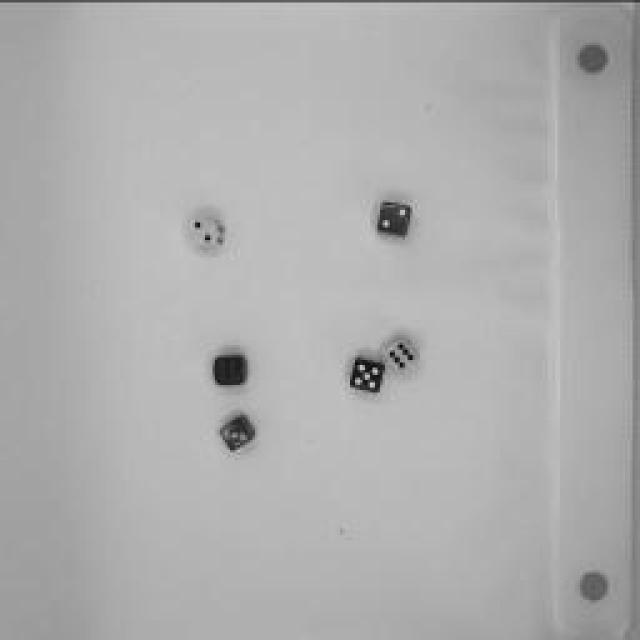dice_2: (369, 200, 419, 250), (188, 205, 228, 257)
dice_3: (215, 414, 260, 461)
dice_5: (344, 352, 388, 400)
dice_6: (382, 331, 426, 379), (214, 350, 251, 390)
